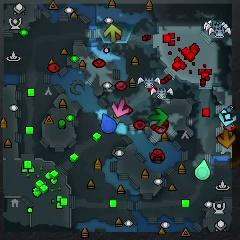p1: (101, 113, 117, 134)
p2: (195, 159, 210, 181)
x1: (112, 99, 129, 117)
x2: (104, 24, 122, 44)
x3: (220, 107, 237, 127)
x4: (150, 108, 168, 126)
x5: (217, 130, 236, 148)
